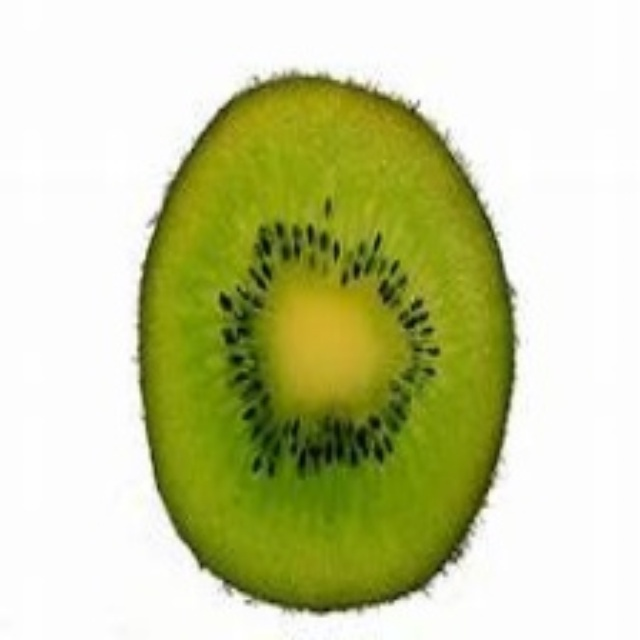kiwi: (138, 77, 516, 622)
